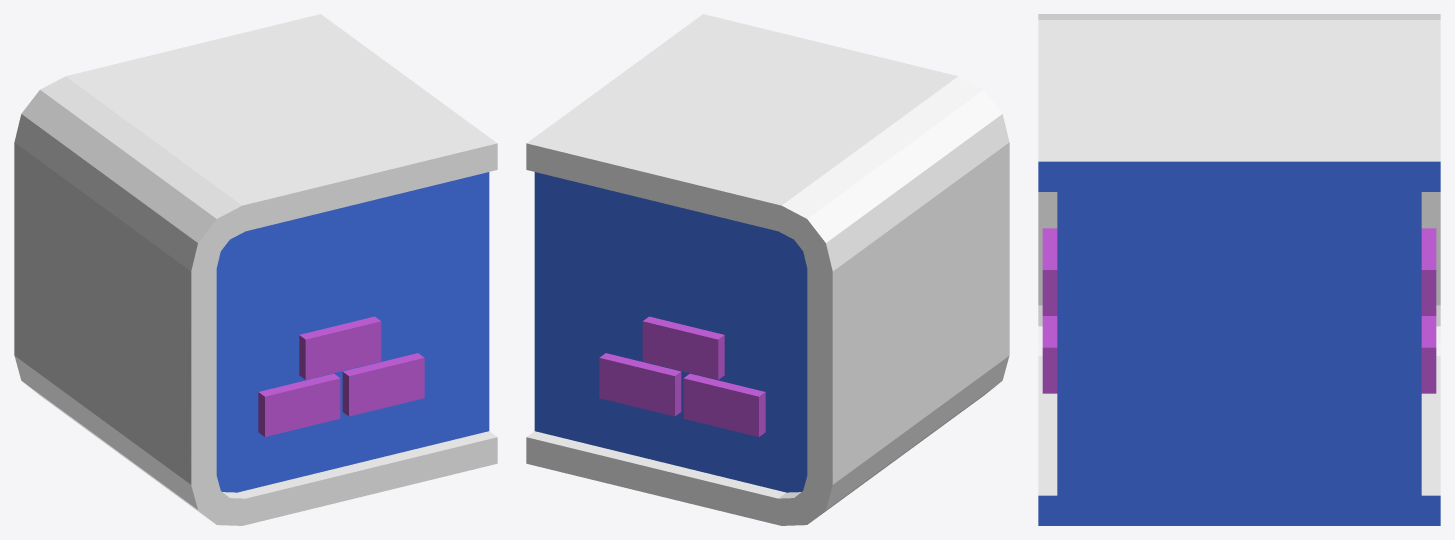
Rendered from platform_edge_left.fbx.
3 renders of one model, left to right at view 1: azimuth 30°, elevation 25°; view 2: azimuth 150°, elevation 25°; view 3: azimuth 270°, elevation 25°, orthographic. The views are drawn at different scales.
Parts seen in each view (by area): view 1: Cube; view 2: Cube; view 3: Cube.
Part boxes in pixels (<box>): Cube: <box>14,14,497,525</box>; Cube: <box>526,14,1009,525</box>; Cube: <box>1038,14,1440,525</box>.
Bounding box in the file's own units: 200 × 200 × 200.
